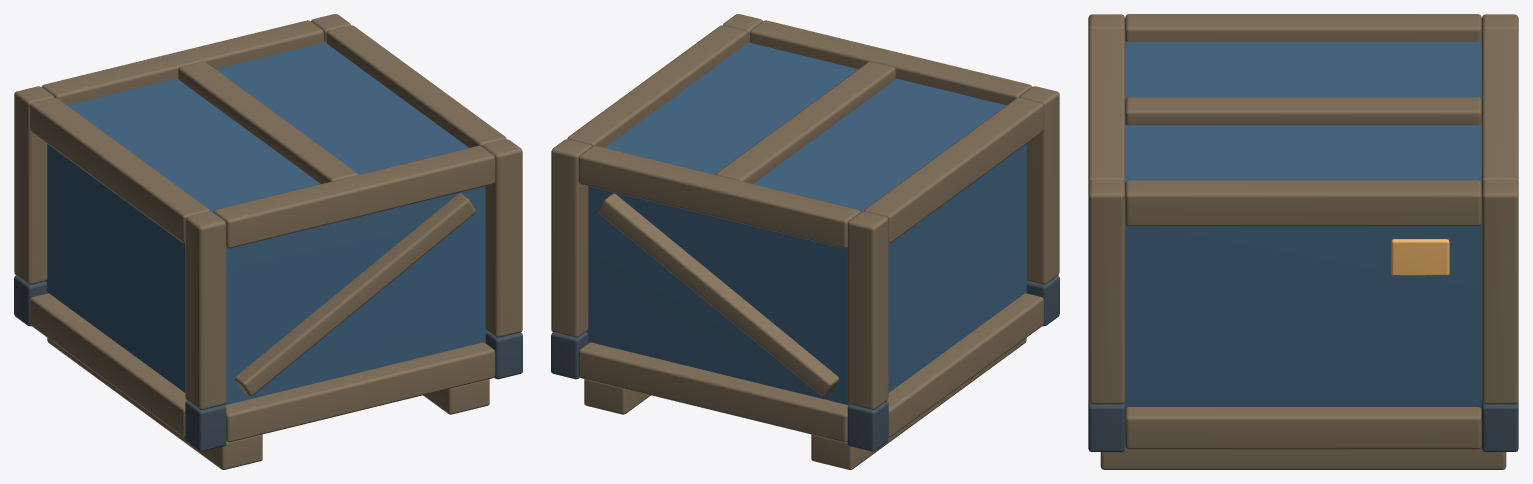
File: d09_storage_04.glb
The picture shows the model from 3 angles, left to right: view 1: azimuth 30°, elevation 25°; view 2: azimuth 150°, elevation 25°; view 3: azimuth 270°, elevation 25°; orthographic projection. The views are drawn at different scales.
Parts seen in each view (by area): view 1: D09Storage04_Mesh; view 2: D09Storage04_Mesh; view 3: D09Storage04_Mesh.
Part boxes in pixels (x1,y1,x2,y2): D09Storage04_Mesh: [14, 14, 522, 469]; D09Storage04_Mesh: [551, 14, 1059, 469]; D09Storage04_Mesh: [1088, 14, 1518, 469].
Size of the model in its own units: 1.4 by 1.05 by 1.4.
